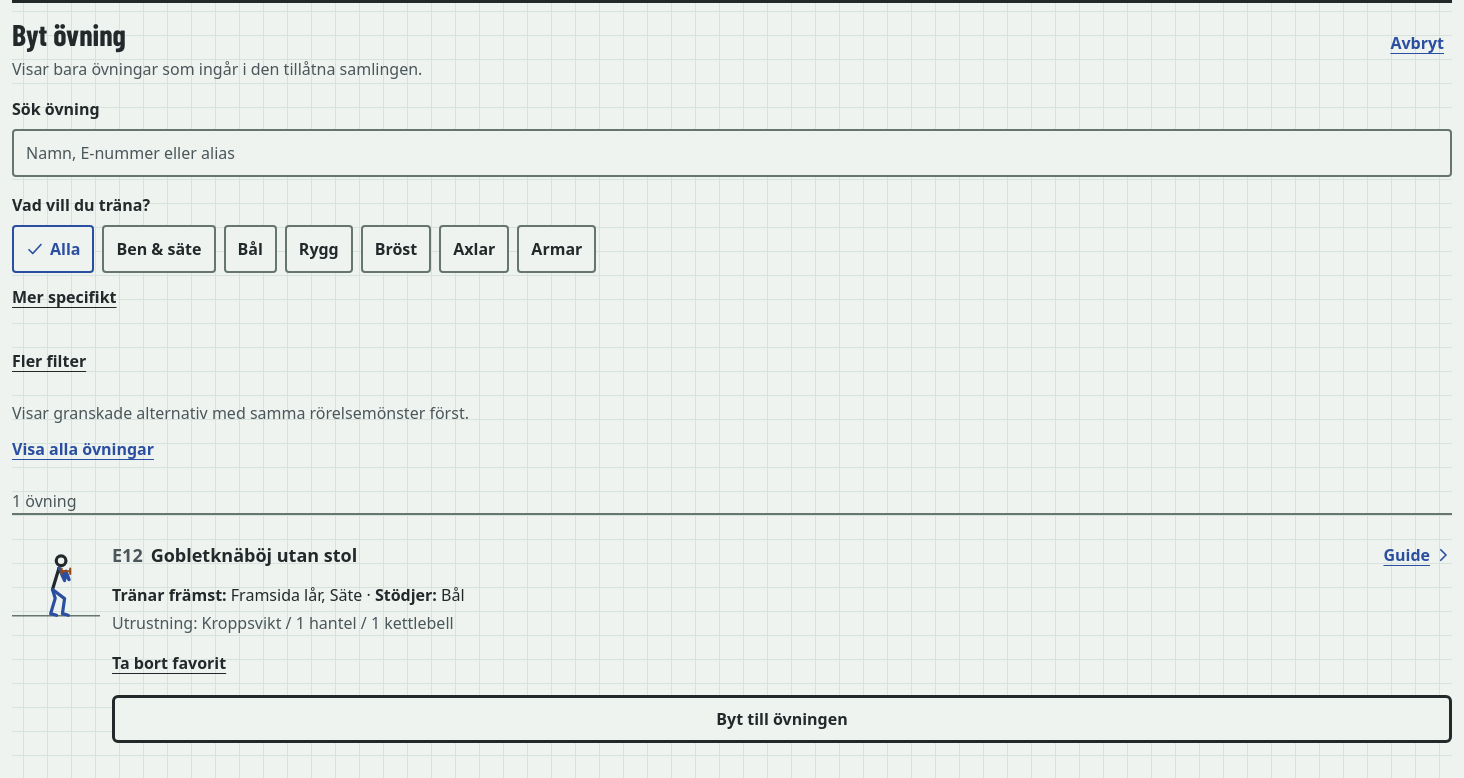
ExercisePicker › starts with same-slot replacement choices and broadens only on request
This screenshot has width=1464, height=778.
expect the text "Visar granskade alternativ med samma rörelsemönster först." is shown: met, box [12,402,469,424]
expect the button "Byt till övningen" is shown: met, box [112,695,1452,743]
Step 1. Click the button "Visa alla övningar" → (83, 449), box [12,425,154,473]
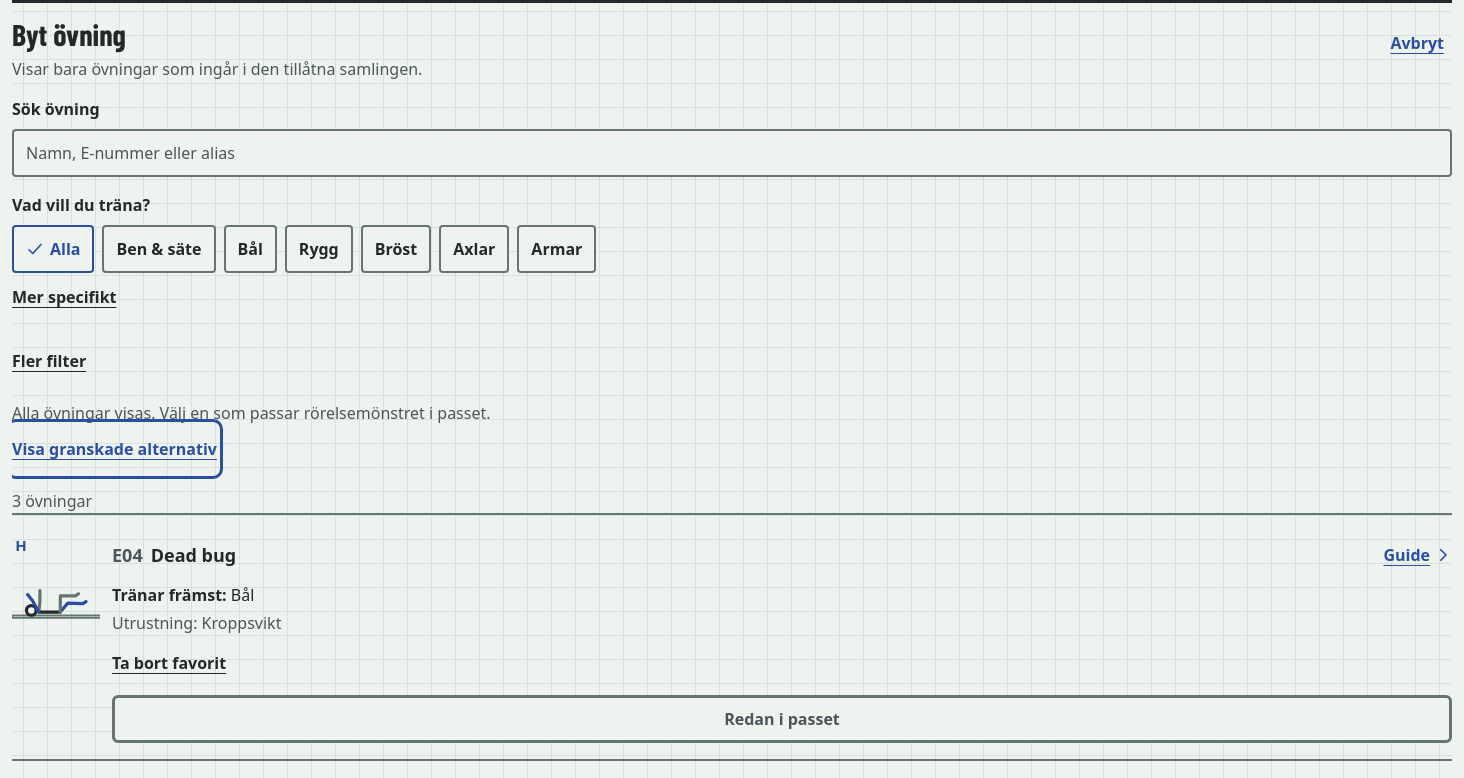
expect the text "Alla övningar visas" is shown: met, box [12,402,490,424]
expect the button "Redan i passet" is disabled: met, box [112,695,1452,743]
